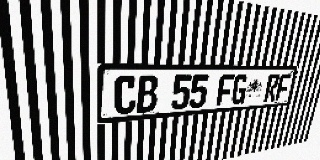5: (171, 75, 192, 110), (189, 75, 209, 109)
B: (136, 75, 159, 113)
C: (114, 75, 137, 115)
F: (216, 74, 235, 106), (275, 74, 291, 101)
G: (230, 74, 249, 105)
R: (263, 74, 280, 102)
